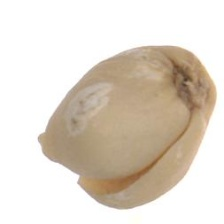L1: (36, 129, 110, 199), (168, 58, 211, 116)
L2: (37, 45, 217, 210)
